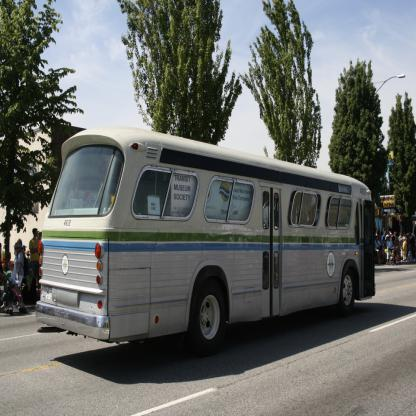Bus: (36, 128, 375, 357)
